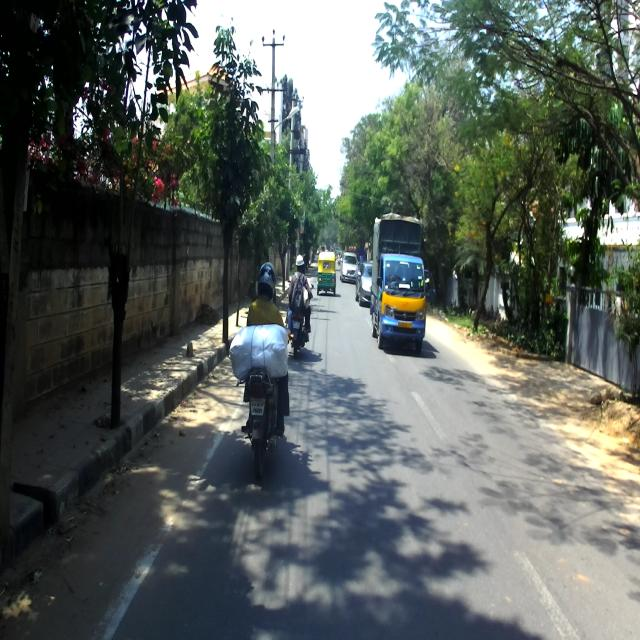motorcycle ahead at: (230, 373, 293, 481)
tree ahead at: (95, 159, 142, 424)
truck ahead at: (370, 212, 429, 351)
